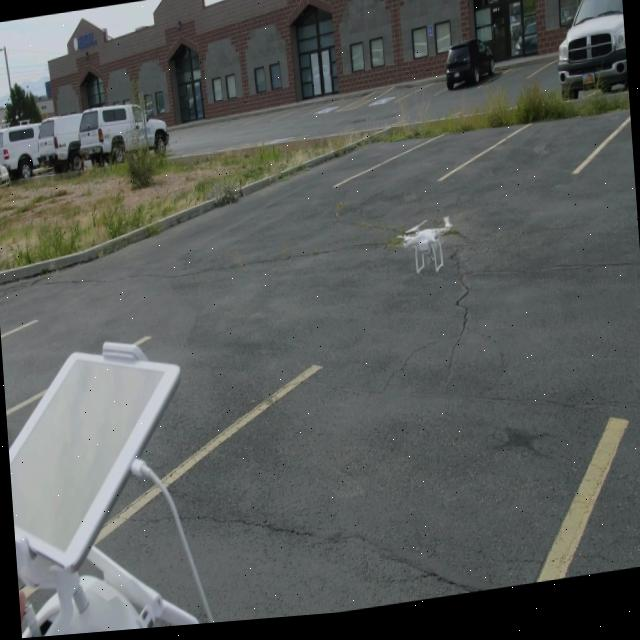drone: (398, 220, 456, 282)
